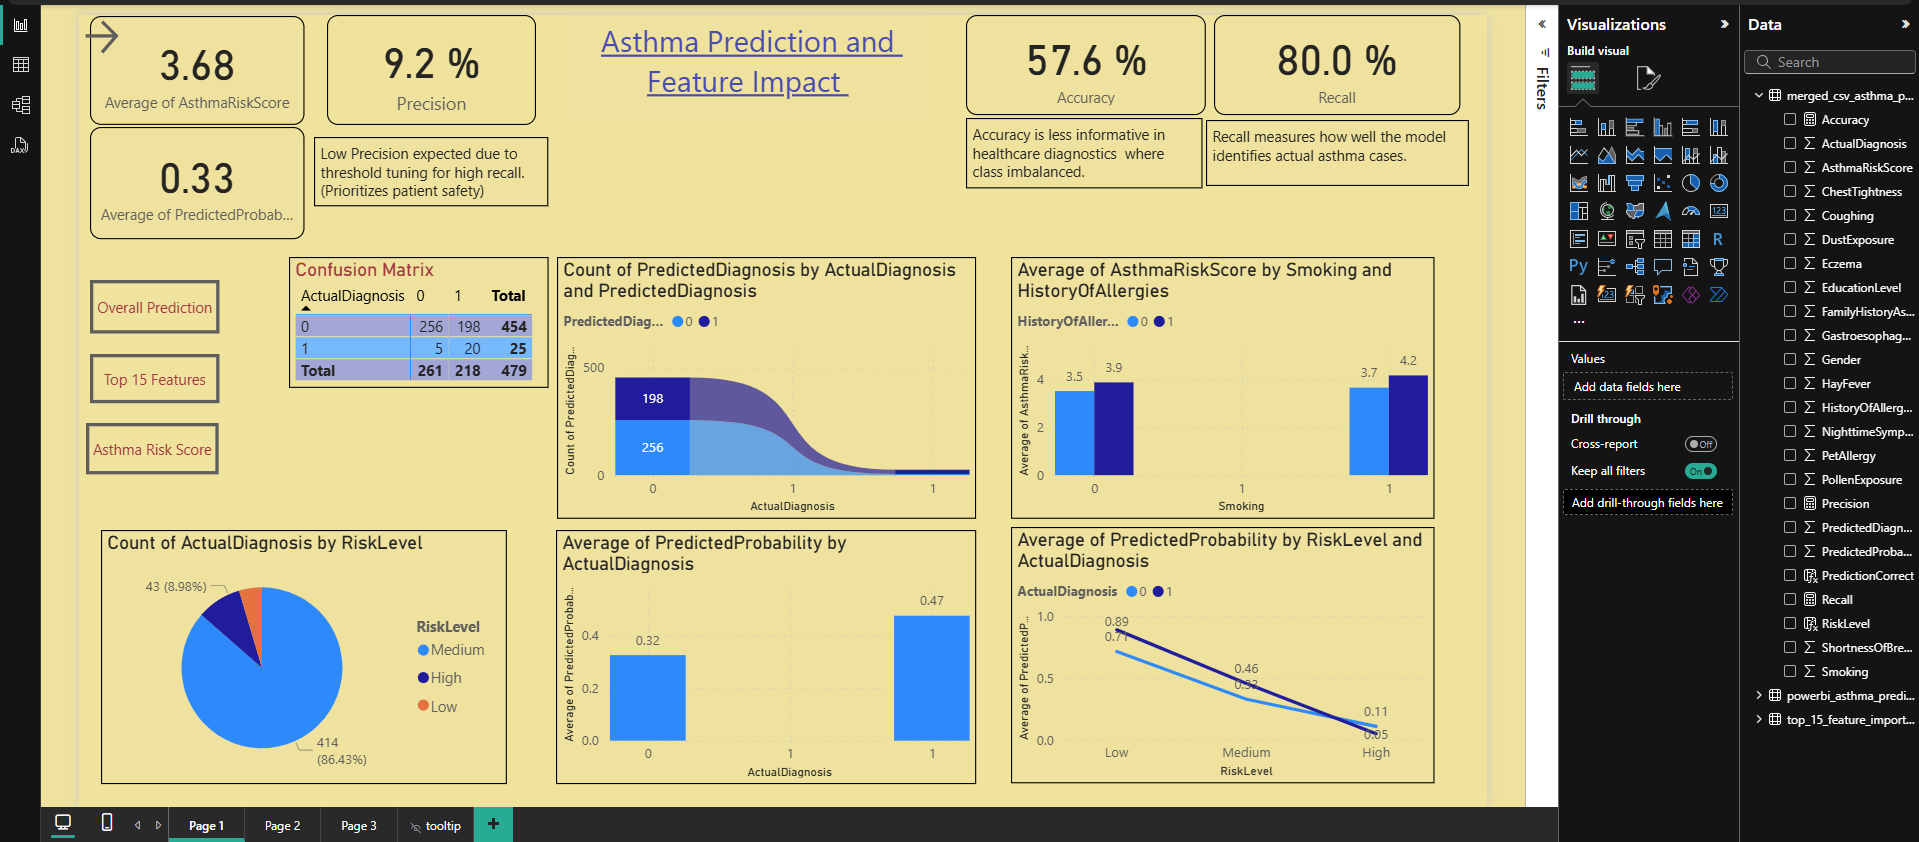

The dashboard page shown, as its layout file describes it:
{"tool":"powerbi","page":{"name":"Page 1","canvas":[1280,720],"ordinal":0},"visuals":[{"type":"card","fields":{"Values":["merged_csv_asthma_prediction.Recall_1"]},"box":[1032,0,223.7,91.4],"z":0},{"type":"card","fields":{"Values":["merged_csv_asthma_prediction.Accuracy_1"]},"box":[806.3,0,217.9,91.4],"z":1000},{"type":"card","fields":{"Values":["merged_csv_asthma_prediction.Precision_1"]},"box":[225.7,0,189.7,100.2],"z":2000},{"type":"card","fields":{"Values":["Avg(merged_csv_asthma_prediction.WeightedScore)"]},"box":[9.7,1,194.5,99.2],"z":3000},{"type":"pivotTable","title":"Confusion Matrix","fields":{"Rows":["merged_csv_asthma_prediction.TrueLabel"],"Columns":["merged_csv_asthma_prediction.LogReg_pred"],"Values":["CountNonNull(merged_csv_asthma_prediction.TrueLabel)"]},"box":[190.6,219.8,236.4,118.7],"z":4000},{"type":"textbox","box":[806.3,93.4,215,64.2],"z":5000},{"type":"textbox","box":[1024.3,95.2,238.8,60.1],"z":6000},{"type":"card","fields":{"Values":["Avg(merged_csv_asthma_prediction.PredictedProbability)"]},"box":[9.7,102.1,194.5,102.1],"z":7000},{"type":"columnChart","fields":{"Category":["merged_csv_asthma_prediction.ActualDiagnosis"],"Y":["Avg(merged_csv_asthma_prediction.PredictedProbability)"]},"box":[433.8,467.8,382.2,231.5],"z":8000},{"type":"columnChart","fields":{"Category":["merged_csv_asthma_prediction.ActualDiagnosis"],"Y":["CountNonNull(merged_csv_asthma_prediction.PredictedDiagnosis)"],"Series":["merged_csv_asthma_prediction.PredictedDiagnosis"]},"box":[434.8,219.8,381.3,238.3],"z":9000},{"type":"textbox","box":[214,110.9,213,63.2],"z":10000},{"type":"clusteredColumnChart","fields":{"Category":["merged_csv_asthma_prediction.Smoking"],"Y":["Avg(merged_csv_asthma_prediction.AsthmaRiskScore)"],"Series":["merged_csv_asthma_prediction.HistoryOfAllergies"]},"box":[847.2,219.8,385.2,238.3],"z":11000},{"type":"pieChart","fields":{"Category":["merged_csv_asthma_prediction.RiskLevel"],"Y":["CountNonNull(merged_csv_asthma_prediction.ActualDiagnosis)"]},"box":[20.4,467.8,368.6,231.5],"z":12000},{"type":"lineChart","fields":{"Category":["merged_csv_asthma_prediction.RiskLevel"],"Y":["Avg(merged_csv_asthma_prediction.PredictedProbability)"],"Series":["merged_csv_asthma_prediction.ActualDiagnosis"]},"box":[847.2,465.9,385.2,233.4],"z":13000},{"type":"textbox","box":[443.5,0,328.8,95.3],"z":14000},{"type":"actionButton","box":[0,0,100,40],"z":15000},{"type":"actionButton","box":[9.7,241.2,117.7,48.6],"z":16000},{"type":"actionButton","box":[9.7,308.3,117.7,44.7],"z":17000},{"type":"actionButton","box":[6.8,370.6,120.6,46.7],"z":18000}]}

Visuals, with their boxes on the page's 1280x720 design canvas (x1, y1, x2, y2). These are canvas units, not pixel positions in the 1919x842 screenshot, which may show the page scaled, cropped or inside an application window:
card - merged_csv_asthma_prediction.Recall_1: BBox(1032, 0, 1256, 91)
card - merged_csv_asthma_prediction.Accuracy_1: BBox(806, 0, 1024, 91)
card - merged_csv_asthma_prediction.Precision_1: BBox(226, 0, 415, 100)
card - Avg(merged_csv_asthma_prediction.WeightedScore): BBox(10, 1, 204, 100)
"Confusion Matrix" pivotTable: BBox(191, 220, 427, 338)
textbox: BBox(806, 93, 1021, 158)
textbox: BBox(1024, 95, 1263, 155)
card - Avg(merged_csv_asthma_prediction.PredictedProbability): BBox(10, 102, 204, 204)
columnChart - merged_csv_asthma_prediction.ActualDiagnosis x Avg(merged_csv_asthma_prediction.PredictedProbability): BBox(434, 468, 816, 699)
columnChart - merged_csv_asthma_prediction.ActualDiagnosis x CountNonNull(merged_csv_asthma_prediction.PredictedDiagnosis): BBox(435, 220, 816, 458)
textbox: BBox(214, 111, 427, 174)
clusteredColumnChart - merged_csv_asthma_prediction.Smoking x Avg(merged_csv_asthma_prediction.AsthmaRiskScore): BBox(847, 220, 1232, 458)
pieChart - merged_csv_asthma_prediction.RiskLevel x CountNonNull(merged_csv_asthma_prediction.ActualDiagnosis): BBox(20, 468, 389, 699)
lineChart - merged_csv_asthma_prediction.RiskLevel x Avg(merged_csv_asthma_prediction.PredictedProbability): BBox(847, 466, 1232, 699)
textbox: BBox(444, 0, 772, 95)
actionButton: BBox(0, 0, 100, 40)
actionButton: BBox(10, 241, 127, 290)
actionButton: BBox(10, 308, 127, 353)
actionButton: BBox(7, 371, 127, 417)
